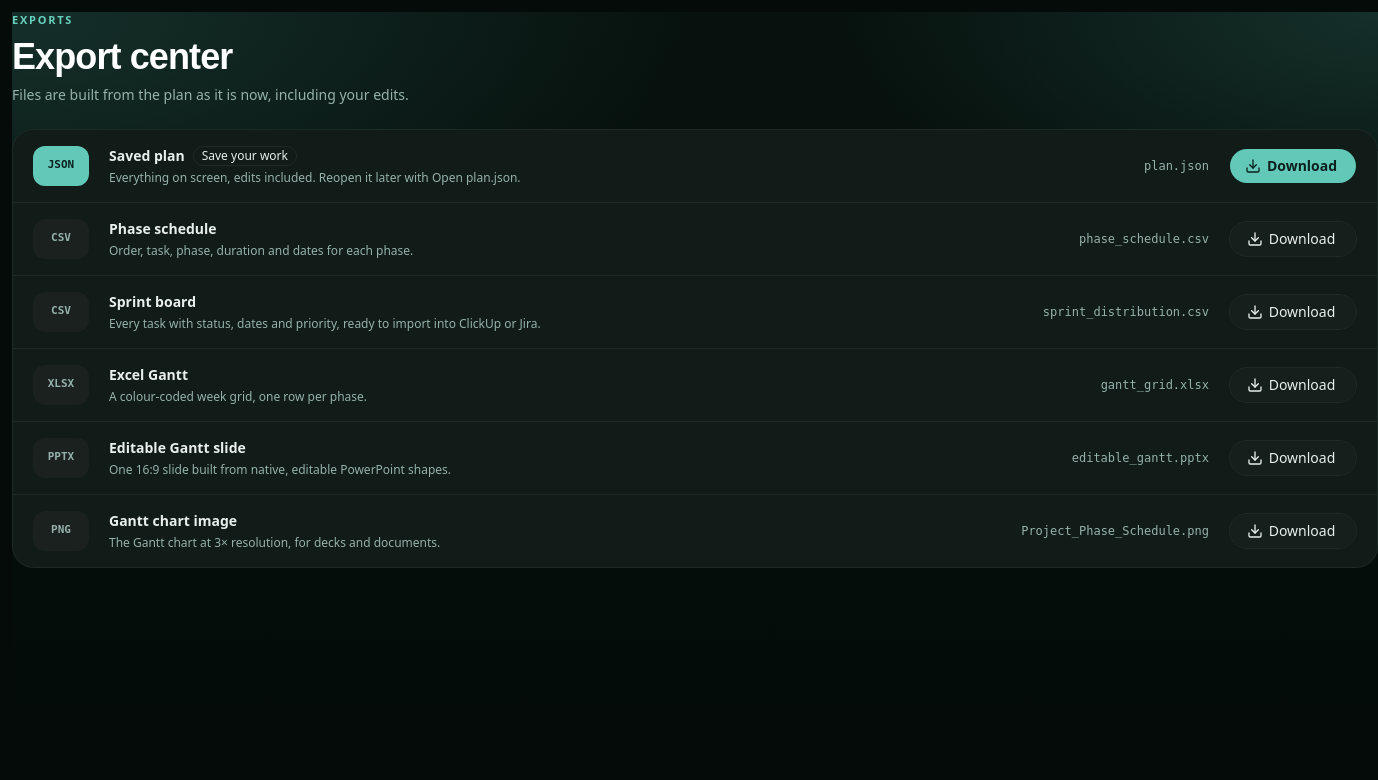
Test: Exports › shows an error on the row that failed
Click the button with aria-label "Excel Gantt" at x=1293, y=384, box [1229,366,1357,402]
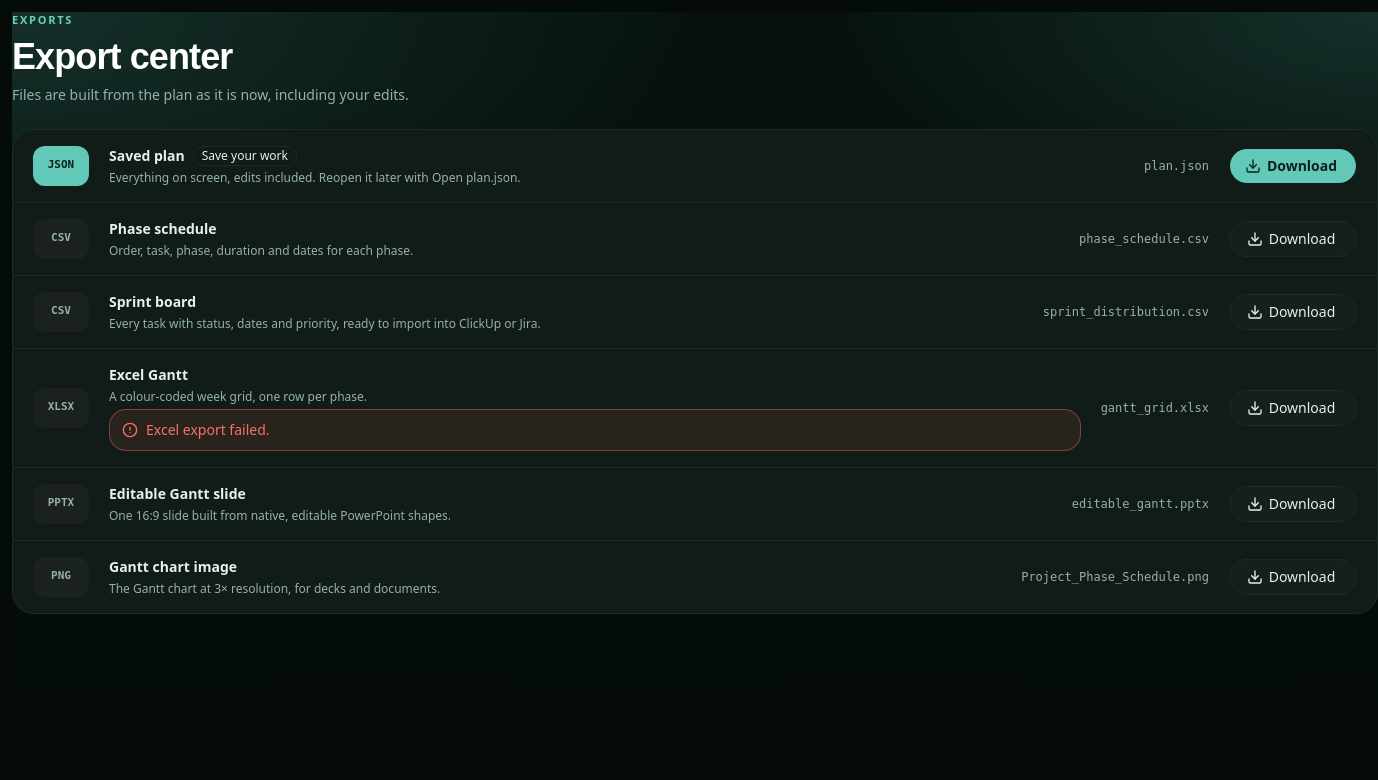
Expected: the message reads "Excel export failed.", [146,420,270,438]
